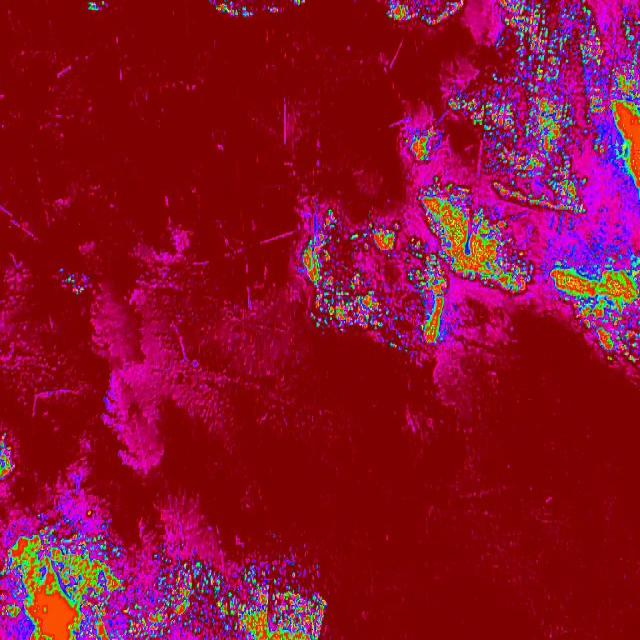fire: (298, 193, 640, 294), (0, 564, 328, 640), (410, 89, 640, 192), (497, 0, 640, 89), (0, 514, 215, 564), (306, 294, 472, 356), (565, 296, 640, 362), (382, 0, 473, 28), (208, 0, 292, 20), (60, 269, 86, 296), (0, 432, 12, 478)
